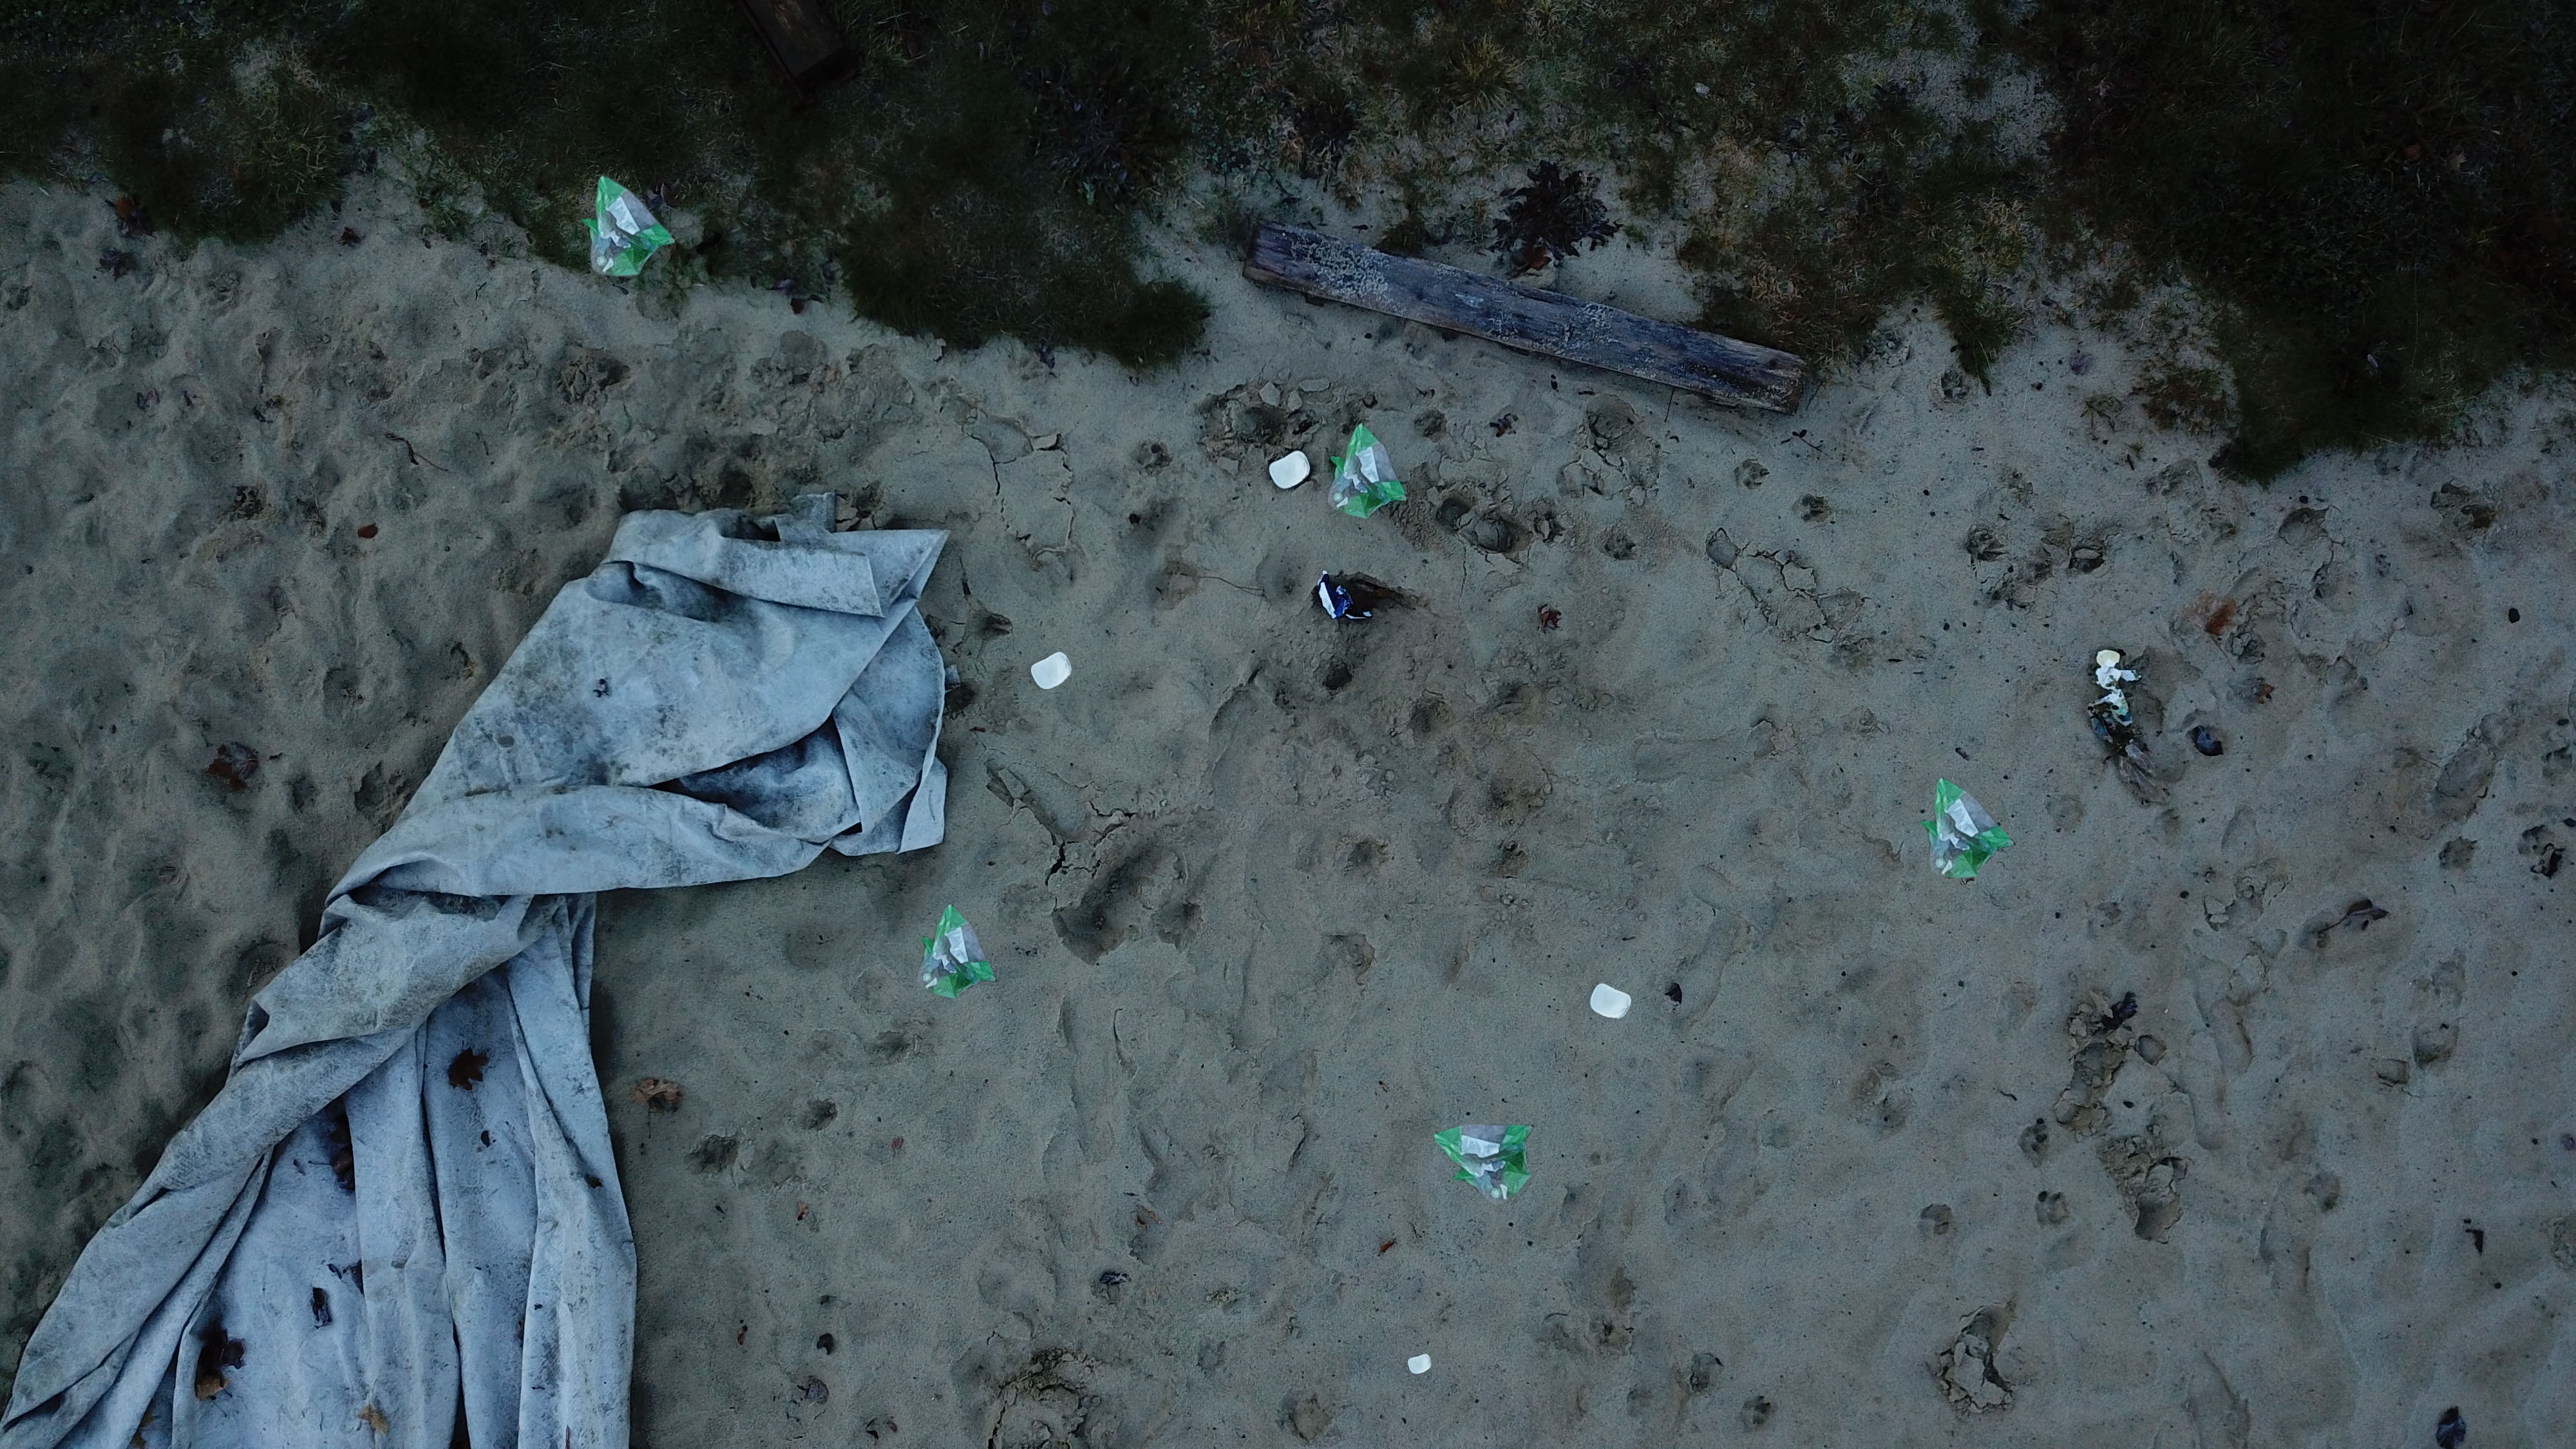Plastic: (584, 173, 672, 287), (1925, 773, 2010, 888), (1329, 414, 1408, 529), (1442, 1113, 1541, 1205), (909, 904, 1003, 998), (2097, 640, 2150, 755), (1304, 571, 1376, 628), (1589, 973, 1642, 1024), (1267, 448, 1316, 488), (1024, 651, 1077, 688), (1407, 1352, 1437, 1380)
